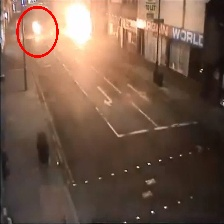fire: (31, 1, 96, 49)
